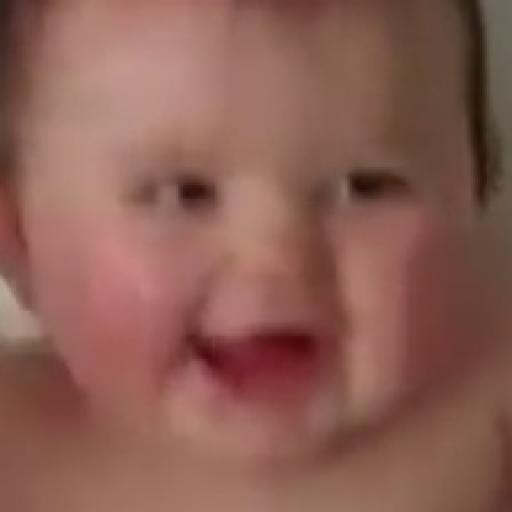Autism: (36, 22, 468, 467)
